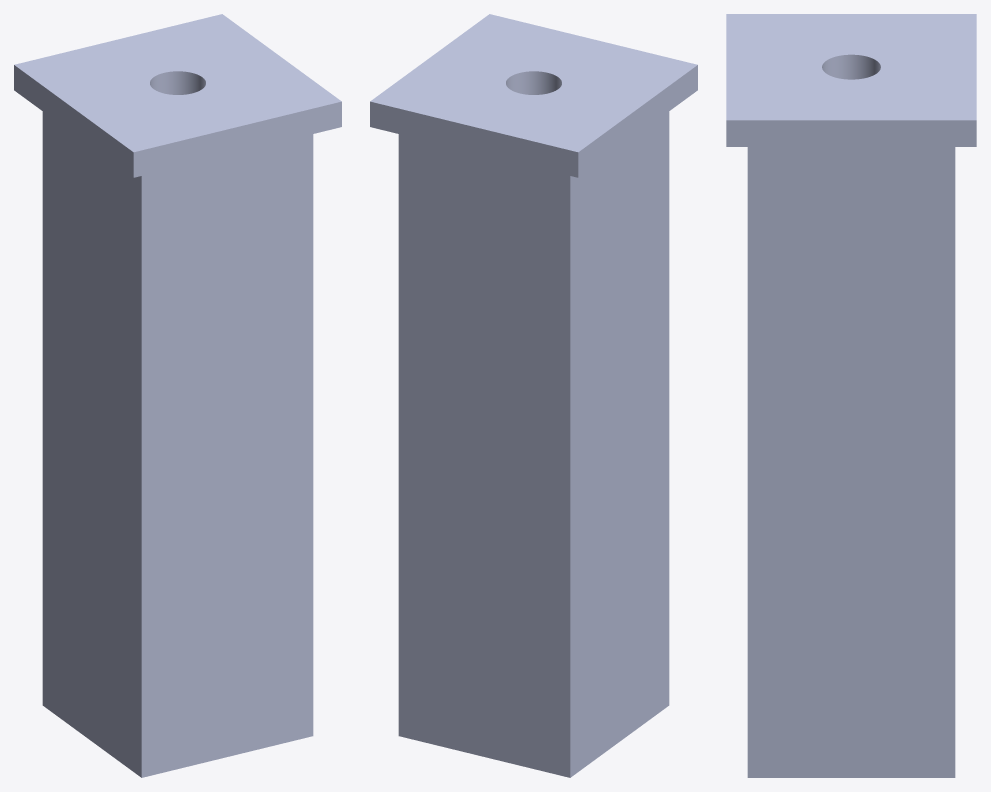
File: Rear_Camera_Mount_Cap_1in.obj
3 renders of one model, left to right at view 1: azimuth 30°, elevation 25°; view 2: azimuth 150°, elevation 25°; view 3: azimuth 270°, elevation 25°, orthographic. The views are drawn at different scales.
Visible parts, largest first — view 1: mesh4227, mesh4224, mesh4218, mesh4220, mesh4219, mesh4217; view 2: mesh4225, mesh4224, mesh4218, mesh4222, mesh4219, mesh4217; view 3: mesh4226, mesh4218, mesh4221, mesh4217.
Part boxes in pixels (<box>): mesh4227: <box>141,134,313,777</box>; mesh4224: <box>42,111,141,777</box>; mesh4218: <box>14,14,341,152</box>; mesh4220: <box>133,101,341,177</box>; mesh4219: <box>14,65,133,177</box>; mesh4217: <box>150,71,205,94</box>; mesh4225: <box>398,134,570,777</box>; mesh4224: <box>570,111,669,777</box>; mesh4218: <box>370,14,697,152</box>; mesh4222: <box>370,101,578,177</box>; mesh4219: <box>578,65,697,177</box>; mesh4217: <box>506,71,561,94</box>; mesh4226: <box>747,147,955,777</box>; mesh4218: <box>726,14,976,120</box>; mesh4221: <box>726,120,976,146</box>; mesh4217: <box>822,54,880,79</box>.
Bounding box in the file's own units: 0.0271 × 0.0794 × 0.027.
